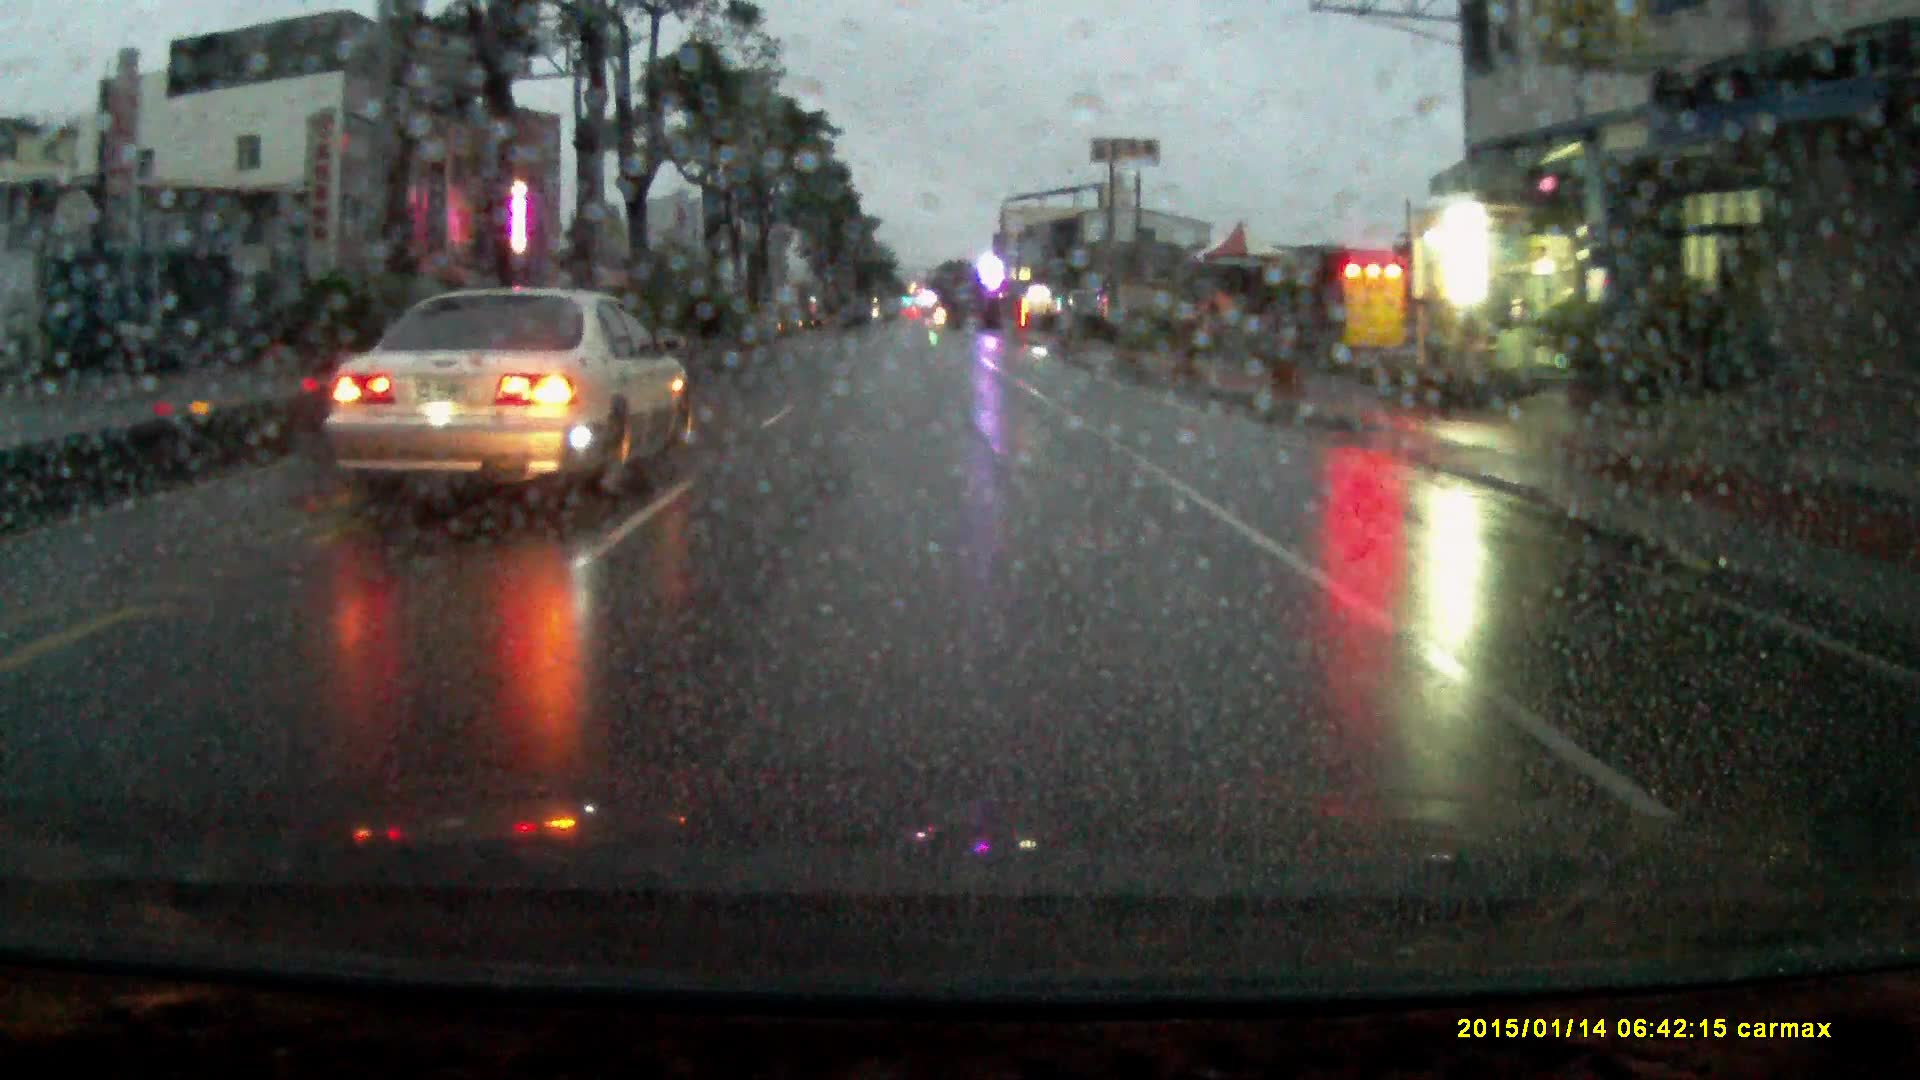vehicle: (315, 289, 695, 513)
